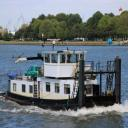tugboat: (2, 38, 124, 116)
